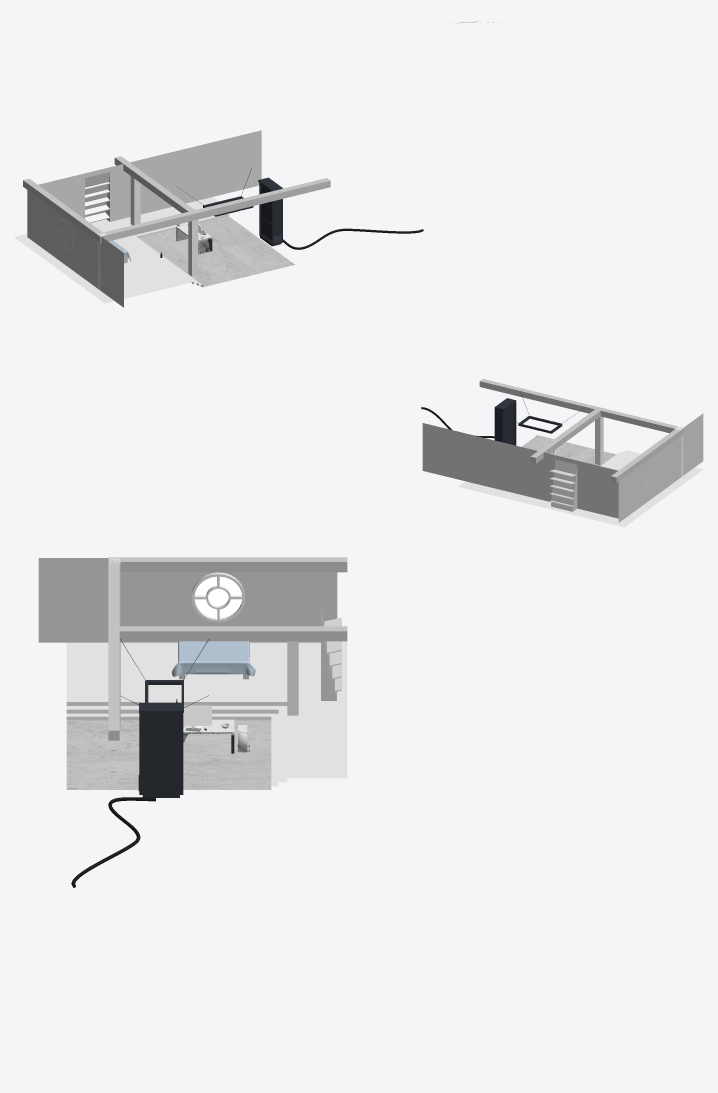
Rendered from computer_v8.7.glb.
3 views of the same model, one above another, from view 1: azimuth 30°, elevation 25°; view 2: azimuth 150°, elevation 25°; view 3: azimuth 270°, elevation 25° (orthographic). The views are drawn at different scales.
Parts seen in each view (by area): view 1: 01_new_ground, 01_wall_02, 01_wall_back, poutre_horiz01, 02_servers, poutre01, poutre_horiz02, 01_window_dimmer, 01_poutres, poutre_vert02; view 2: 01_wall_02, 01_wall_back, 01_new_ground, poutre_horiz01, 02_servers, poutre01, poutre_horiz02, 01_poutres, 01_window_dimmer, 01_Chandelier; view 3: 01_new_ground, 01_wall_back, 02_servers, poutre_horiz02, poutre01, 01_sheet, poutre_horiz01, 01_Circlular_window_emitter, 01_Circlular_window, poutre_vert02.
Boxes of the visible parts, bbox=[...] form: 01_new_ground: bbox=[14, 197, 294, 303]; 01_wall_02: bbox=[38, 130, 261, 221]; 01_wall_back: bbox=[27, 190, 123, 307]; poutre_horiz01: bbox=[96, 178, 330, 243]; 02_servers: bbox=[258, 177, 282, 246]; poutre01: bbox=[23, 178, 102, 240]; poutre_horiz02: bbox=[114, 156, 194, 213]; 01_window_dimmer: bbox=[85, 182, 109, 222]; 01_poutres: bbox=[188, 219, 198, 276]; poutre_vert02: bbox=[130, 176, 140, 225]; 01_wall_02: bbox=[422, 423, 618, 518]; 01_wall_back: bbox=[618, 413, 703, 522]; 01_new_ground: bbox=[458, 435, 703, 527]; poutre_horiz01: bbox=[479, 379, 684, 435]; 02_servers: bbox=[494, 398, 516, 445]; poutre01: bbox=[611, 429, 680, 483]; poutre_horiz02: bbox=[530, 409, 600, 463]; 01_poutres: bbox=[595, 416, 603, 465]; 01_window_dimmer: bbox=[549, 469, 576, 506]; 01_Chandelier: bbox=[496, 391, 585, 433]; 01_new_ground: bbox=[66, 641, 347, 789]; 01_wall_back: bbox=[38, 558, 337, 642]; 02_servers: bbox=[138, 703, 183, 797]; poutre_horiz02: bbox=[119, 626, 347, 641]; poutre01: bbox=[119, 557, 347, 572]; 01_sheet: bbox=[171, 641, 255, 676]; poutre_horiz01: bbox=[108, 557, 119, 740]; 01_Circlular_window_emitter: bbox=[194, 576, 241, 618]; 01_Circlular_window: bbox=[191, 572, 244, 622]; poutre_vert02: bbox=[287, 641, 298, 715].
Size of the model in its own units: 40.48 by 4.82 by 26.94.
Materials: 15 (4 with a texture image).
